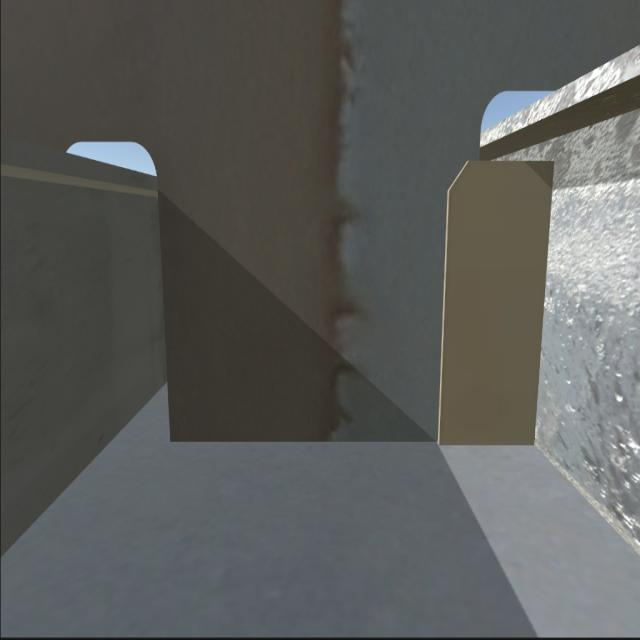fillet_yong_jeop_jang: (168, 439, 535, 450)
longi_yong_jeop_jang: (544, 159, 554, 439)
plate_CP03: (439, 168, 544, 436)
